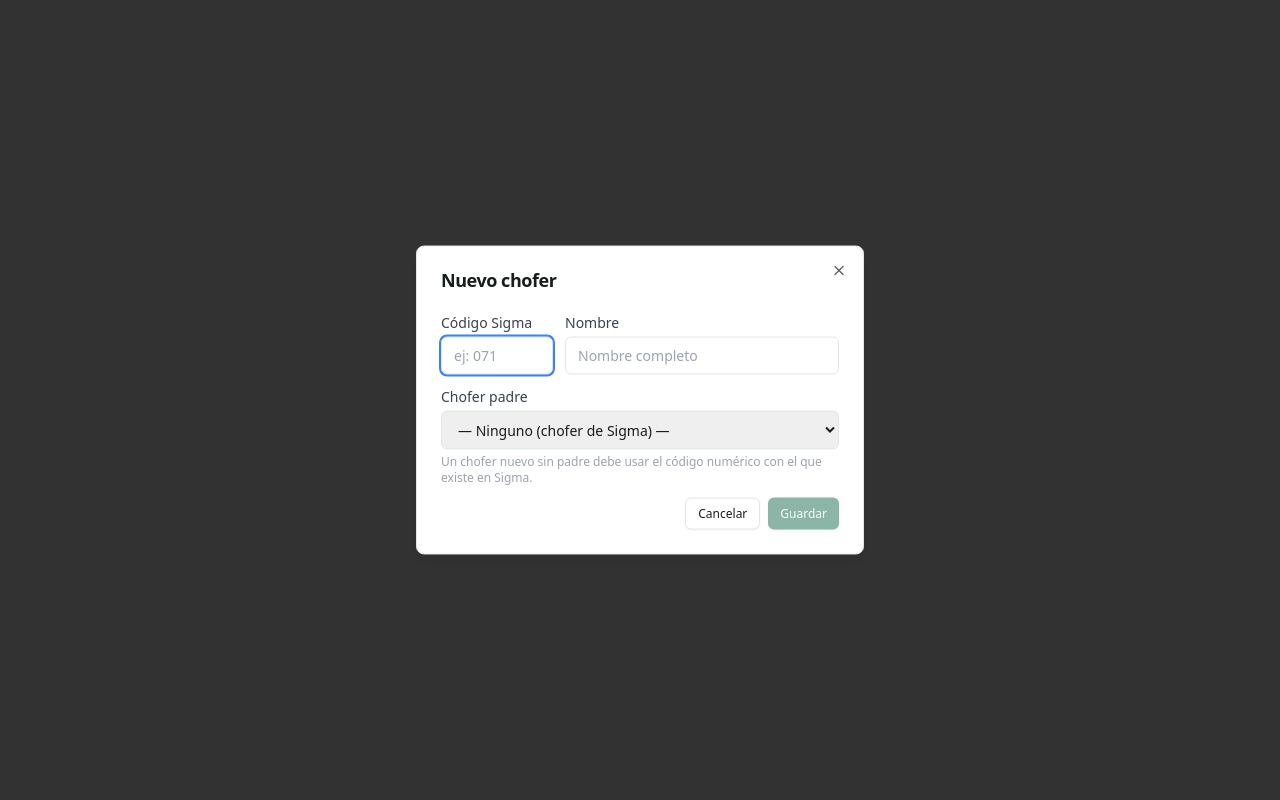
ChoferModal — chofer padre › el label del código dice "Código Sigma" sin padre y "Código" con padre
Expected: the text "Código Sigma" is shown, [441,312,532,332]
Select "071 — López" in the dropdown at (640, 430), box [441,410,839,450]
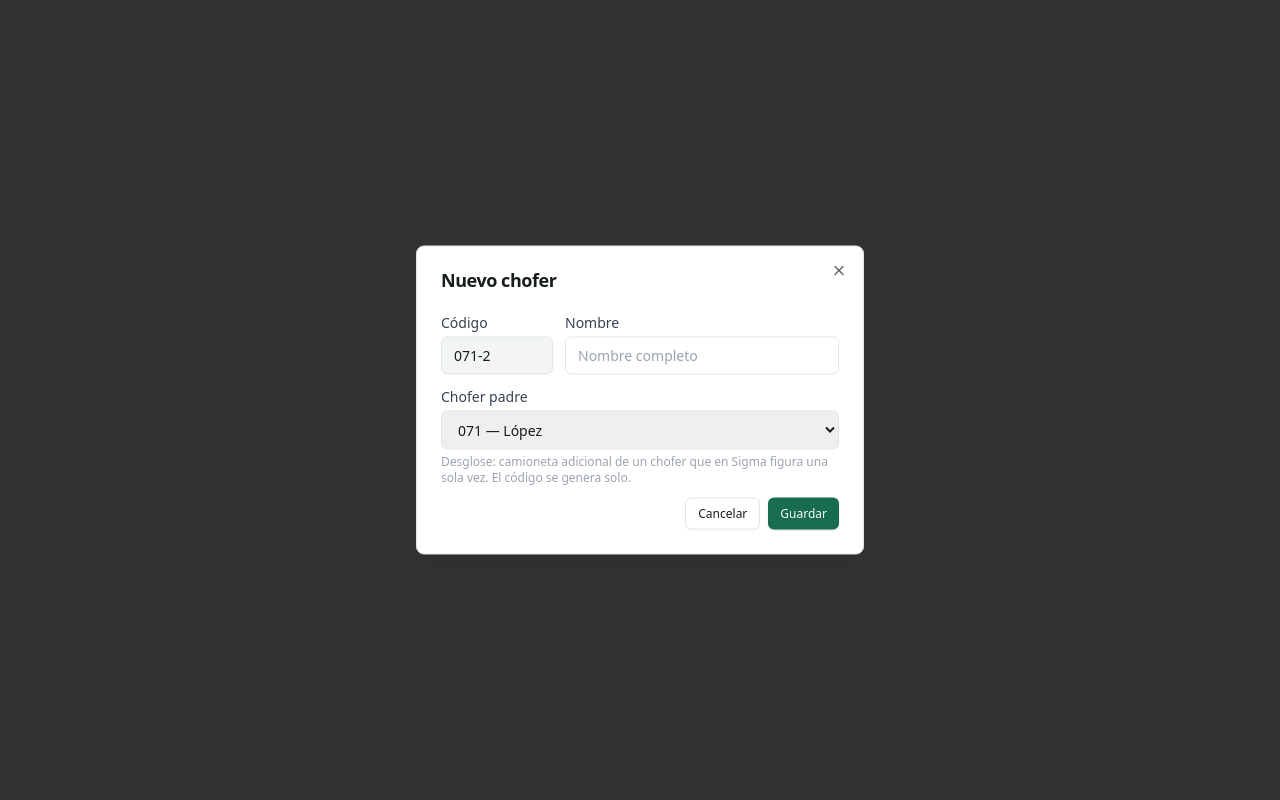
Expected: the text "Código" is shown, [441,312,488,332]
Now the text "Código Sigma" is gone
